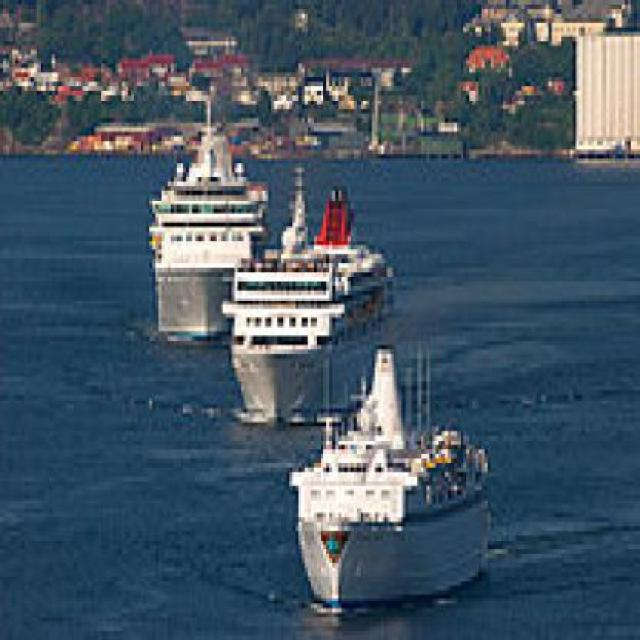cruise: (287, 360, 513, 623), (236, 205, 400, 423), (147, 137, 272, 351)
